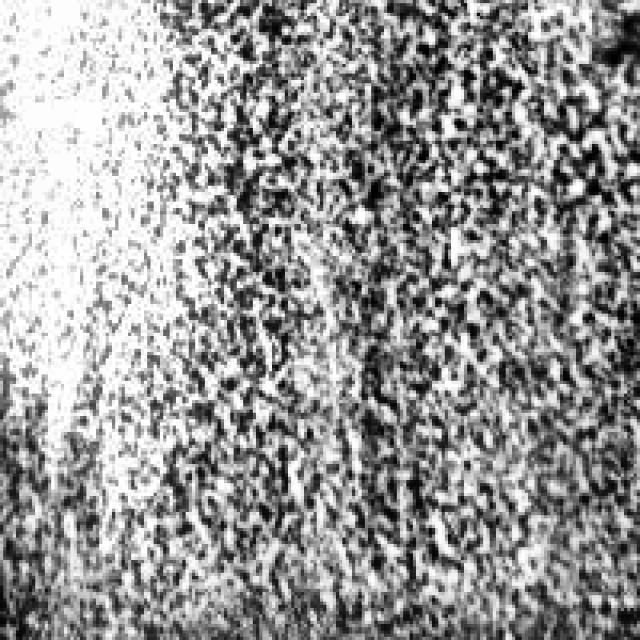Rolled_in_Scale: (80, 3, 630, 611)
